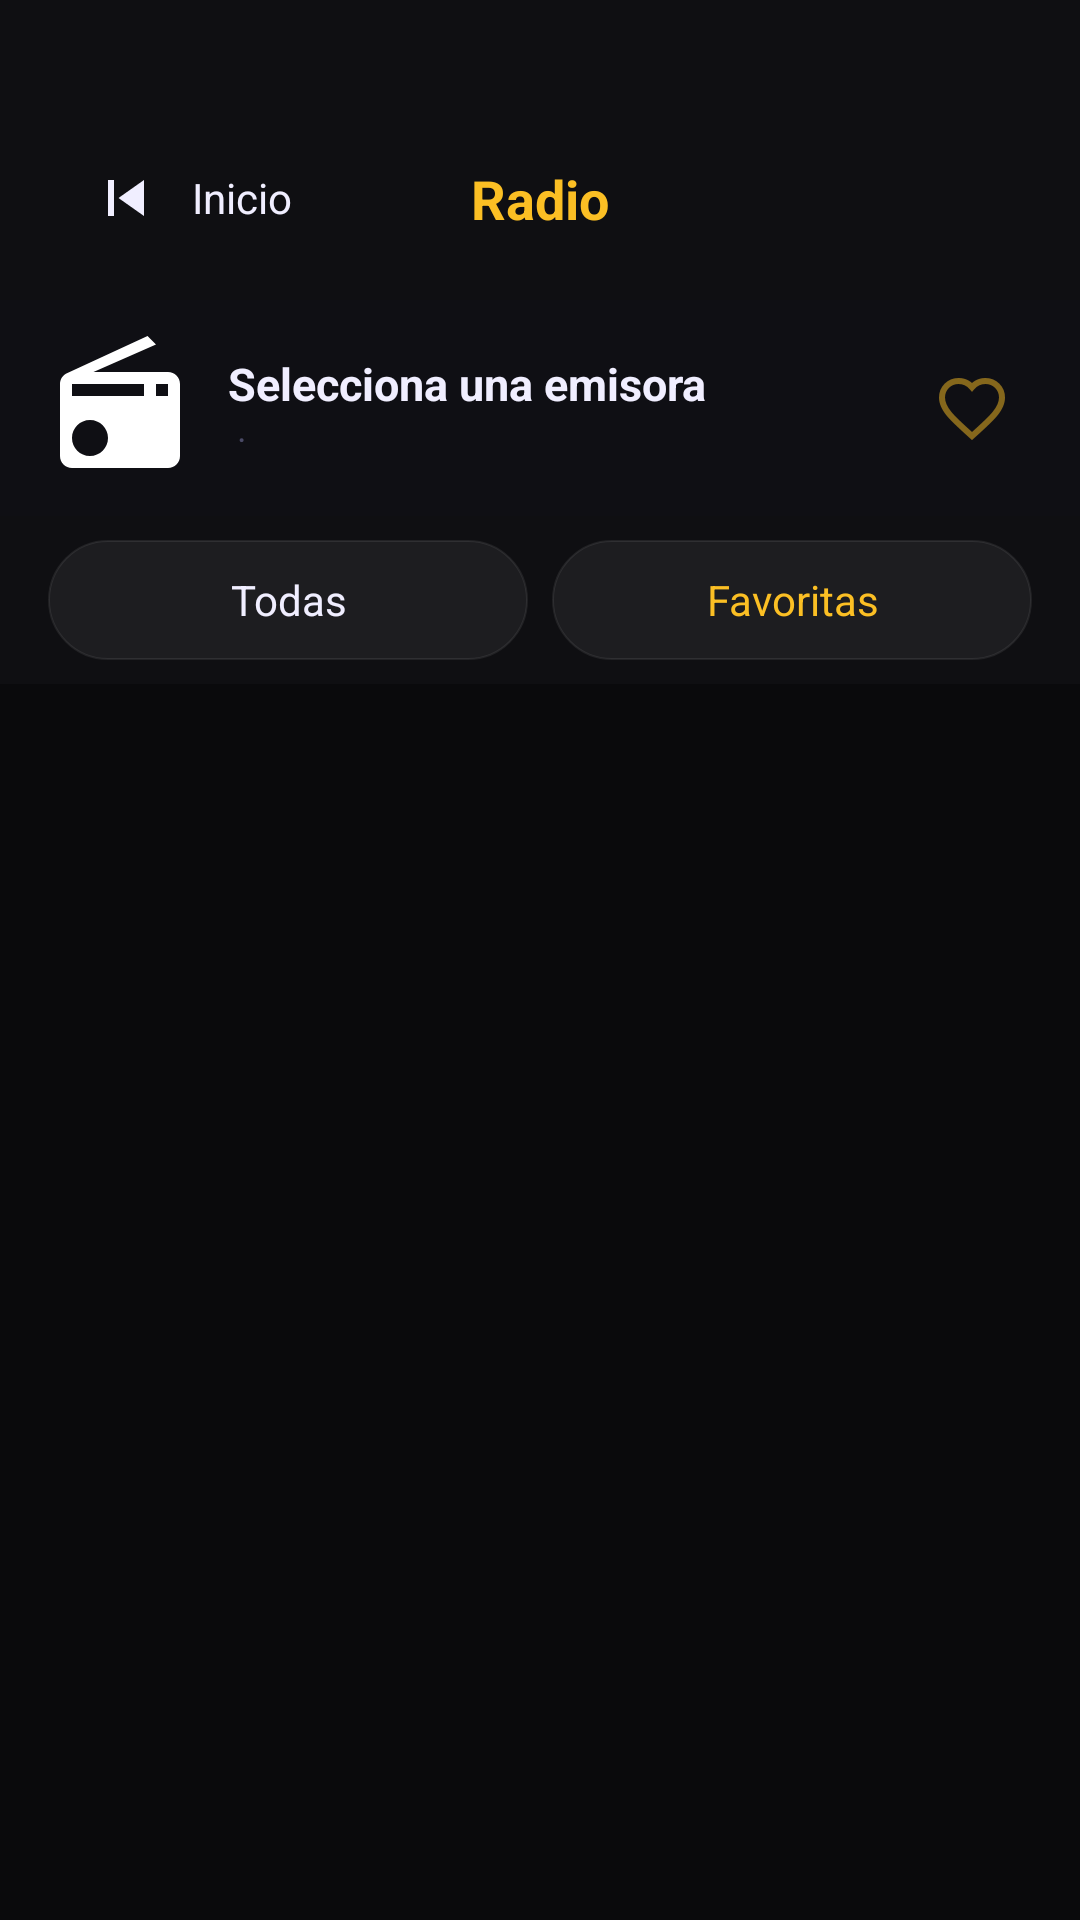

Screen size 1080x1920. Icon name, then its box in pixels as {"left": x1, "top": y1, "right": x2, "bottom": y2}:
Favorito: {"left": 939, "top": 378, "right": 1005, "bottom": 440}
home radio: {"left": 60, "top": 336, "right": 180, "bottom": 468}
